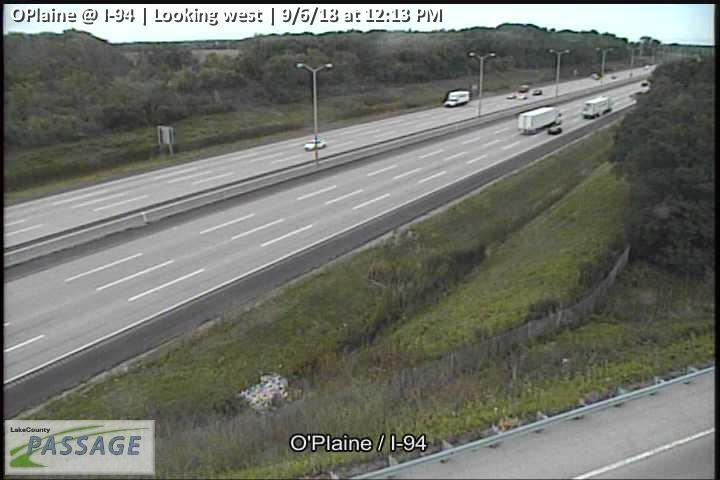SUV: (519, 85, 529, 93)
Sedan: (305, 139, 326, 149), (549, 127, 562, 134), (533, 89, 542, 95), (507, 95, 516, 99), (519, 95, 527, 99)
Truck: (518, 107, 562, 130), (584, 97, 611, 117), (444, 91, 470, 105)
